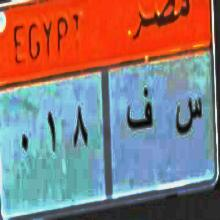0: (18, 118, 34, 164)
1: (44, 103, 61, 159)
8: (70, 101, 90, 154)
faa: (123, 86, 158, 133)
seen: (176, 84, 203, 148)
